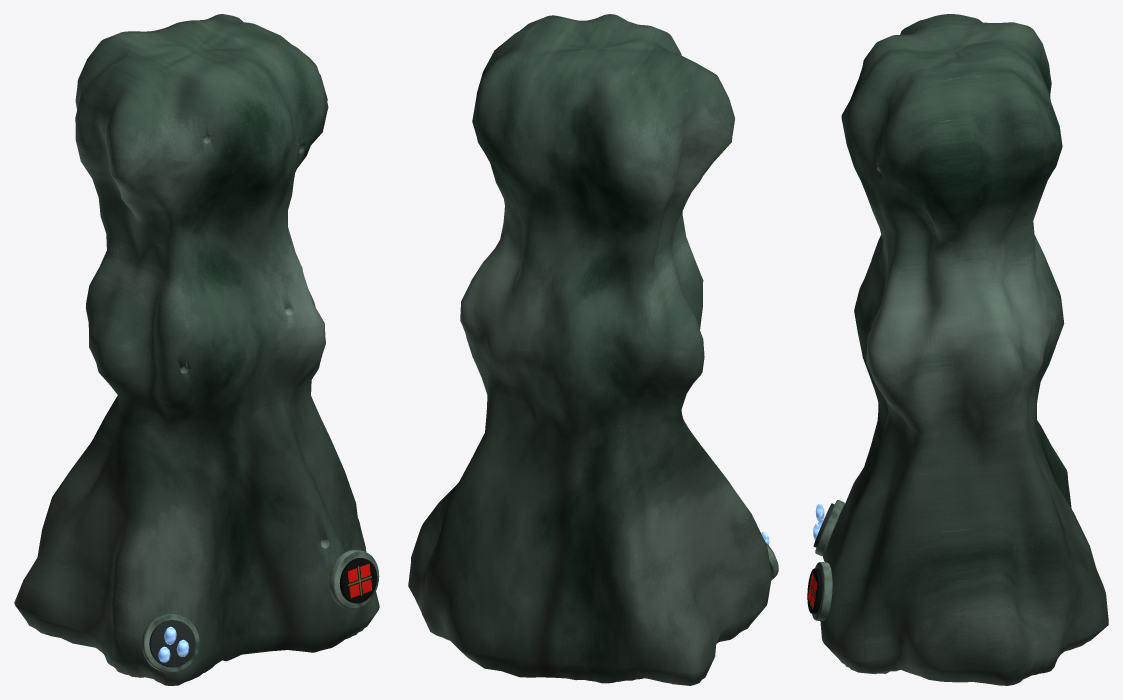
3 renders of one model, left to right at view 1: azimuth 30°, elevation 25°; view 2: azimuth 150°, elevation 25°; view 3: azimuth 270°, elevation 25°, orthographic. The views are drawn at different scales.
Parts seen in each view (by area): view 1: Ruth-fett continuous stacked mineral tower, Ruth-fett right four-cell red fitting, Ruth-fett left blue-port dark seat, Ruth-fett right worn red-port bezel, Ruth-fett left worn blue-port bezel; view 2: Ruth-fett continuous stacked mineral tower; view 3: Ruth-fett continuous stacked mineral tower, Ruth-fett right worn red-port bezel, Ruth-fett right four-cell red fitting, Ruth-fett left worn blue-port bezel.
Boxes of the visible parts, x1,y1,x2,y2 form: Ruth-fett continuous stacked mineral tower: (14, 14, 379, 685); Ruth-fett right four-cell red fitting: (339, 558, 377, 603); Ruth-fett left blue-port dark seat: (149, 620, 195, 667); Ruth-fett right worn red-port bezel: (329, 549, 379, 609); Ruth-fett left worn blue-port bezel: (141, 613, 199, 672); Ruth-fett continuous stacked mineral tower: (408, 14, 771, 685); Ruth-fett continuous stacked mineral tower: (820, 14, 1108, 685); Ruth-fett right worn red-port bezel: (812, 562, 832, 620); Ruth-fett right four-cell red fitting: (807, 568, 822, 613); Ruth-fett left worn blue-port bezel: (815, 500, 844, 556).
Size of the model in its own units: 1.33 by 2.47 by 1.15.
Materials: 5 (4 with a texture image).
